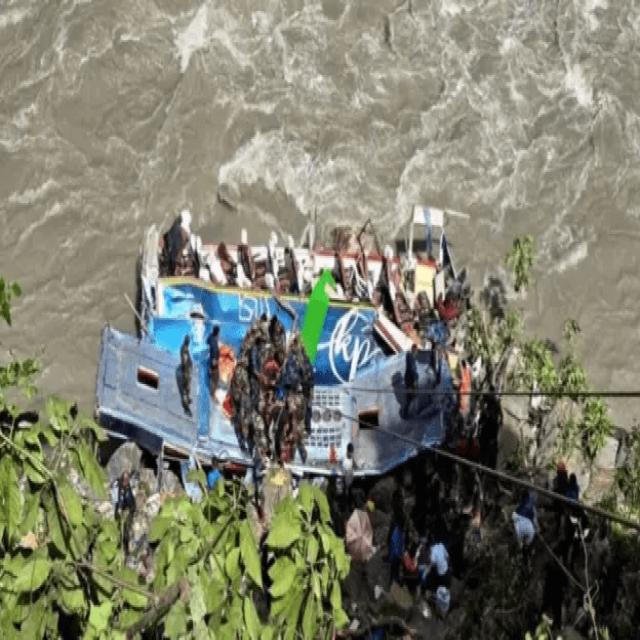Accident: (95, 210, 506, 485)
